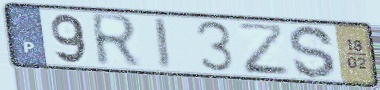3: (194, 19, 236, 75)
9: (49, 12, 89, 65)
I: (151, 15, 174, 71)
R: (88, 11, 144, 70)
S: (287, 24, 339, 81)
Z: (234, 22, 294, 77)
